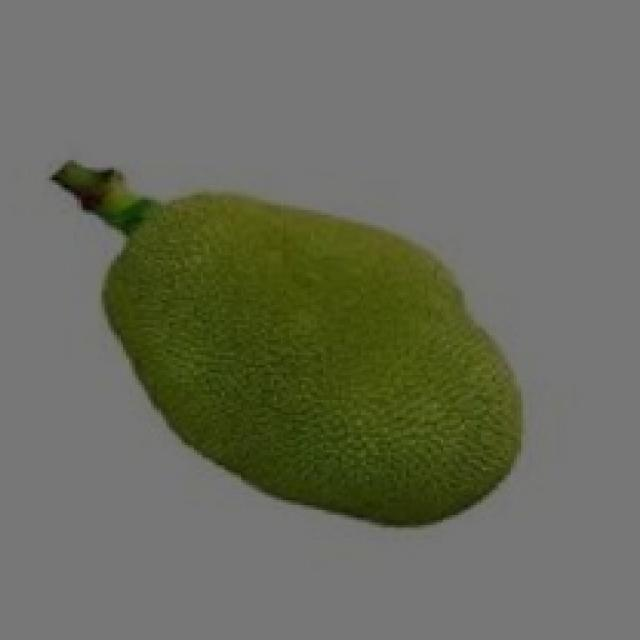Fruit: (129, 183, 551, 555)
